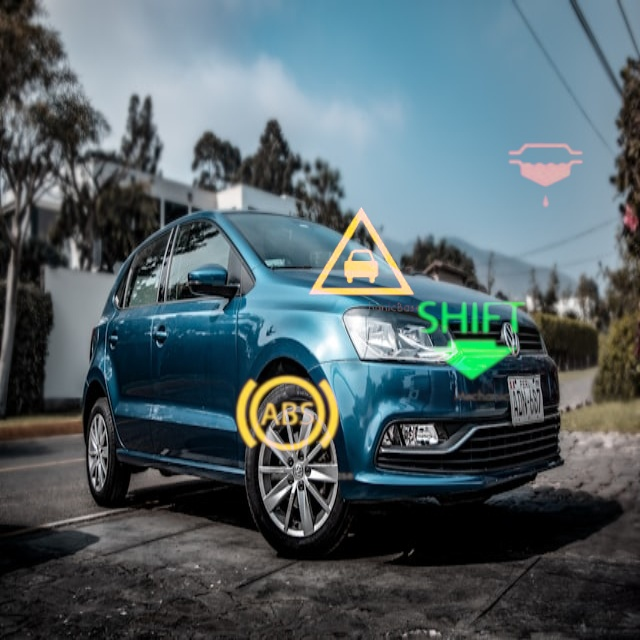symbol: (473, 103, 620, 250), (215, 343, 359, 487), (398, 264, 542, 408), (296, 188, 426, 318)
